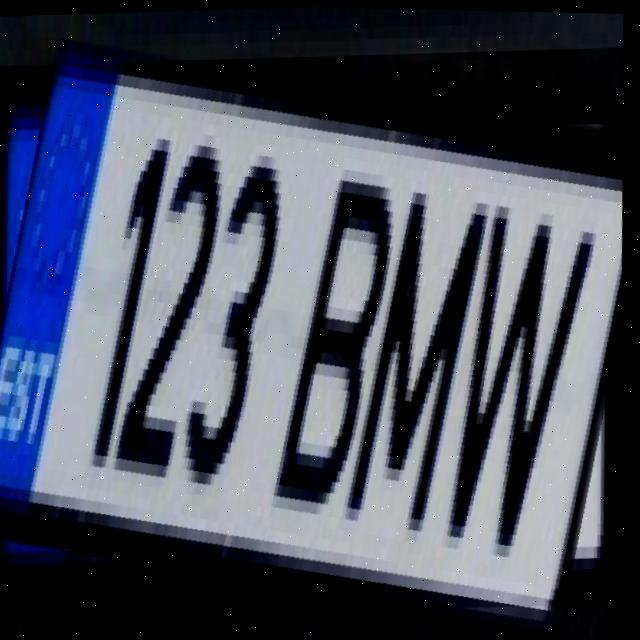LicensePlate: (0, 33, 638, 633)
